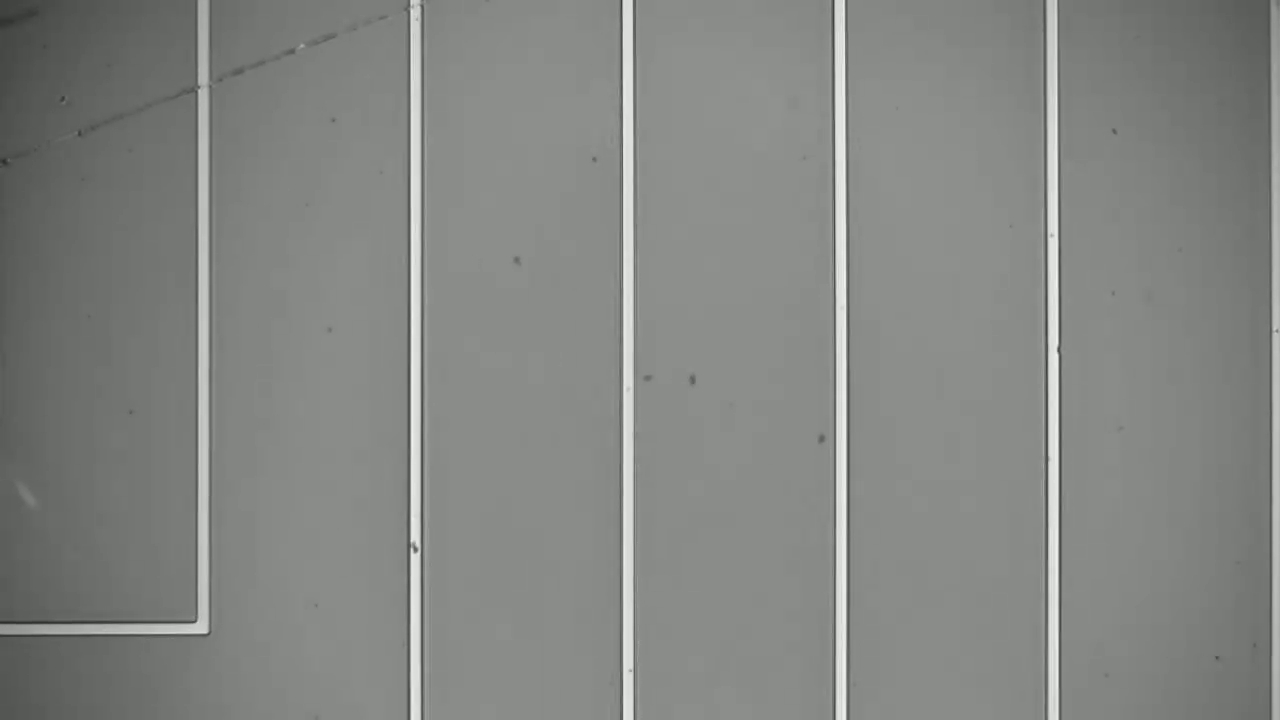scratch: (27, 10, 397, 163)
stains_enbedded: (400, 531, 431, 562)
